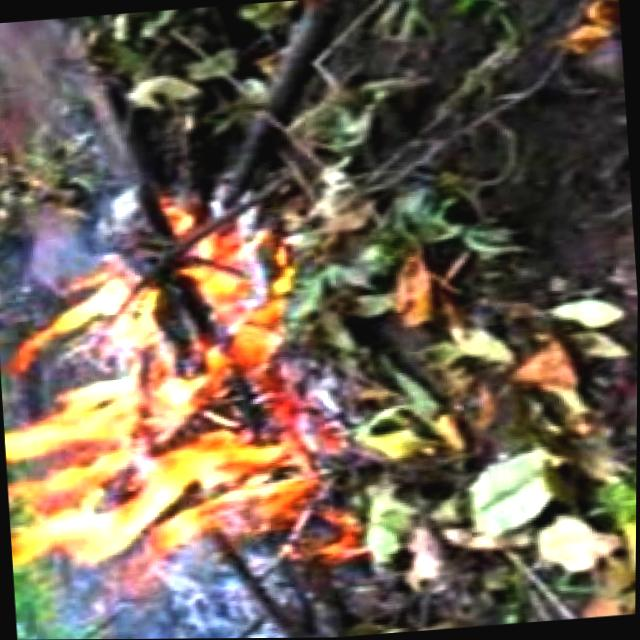helmet: (0, 185, 374, 640)
